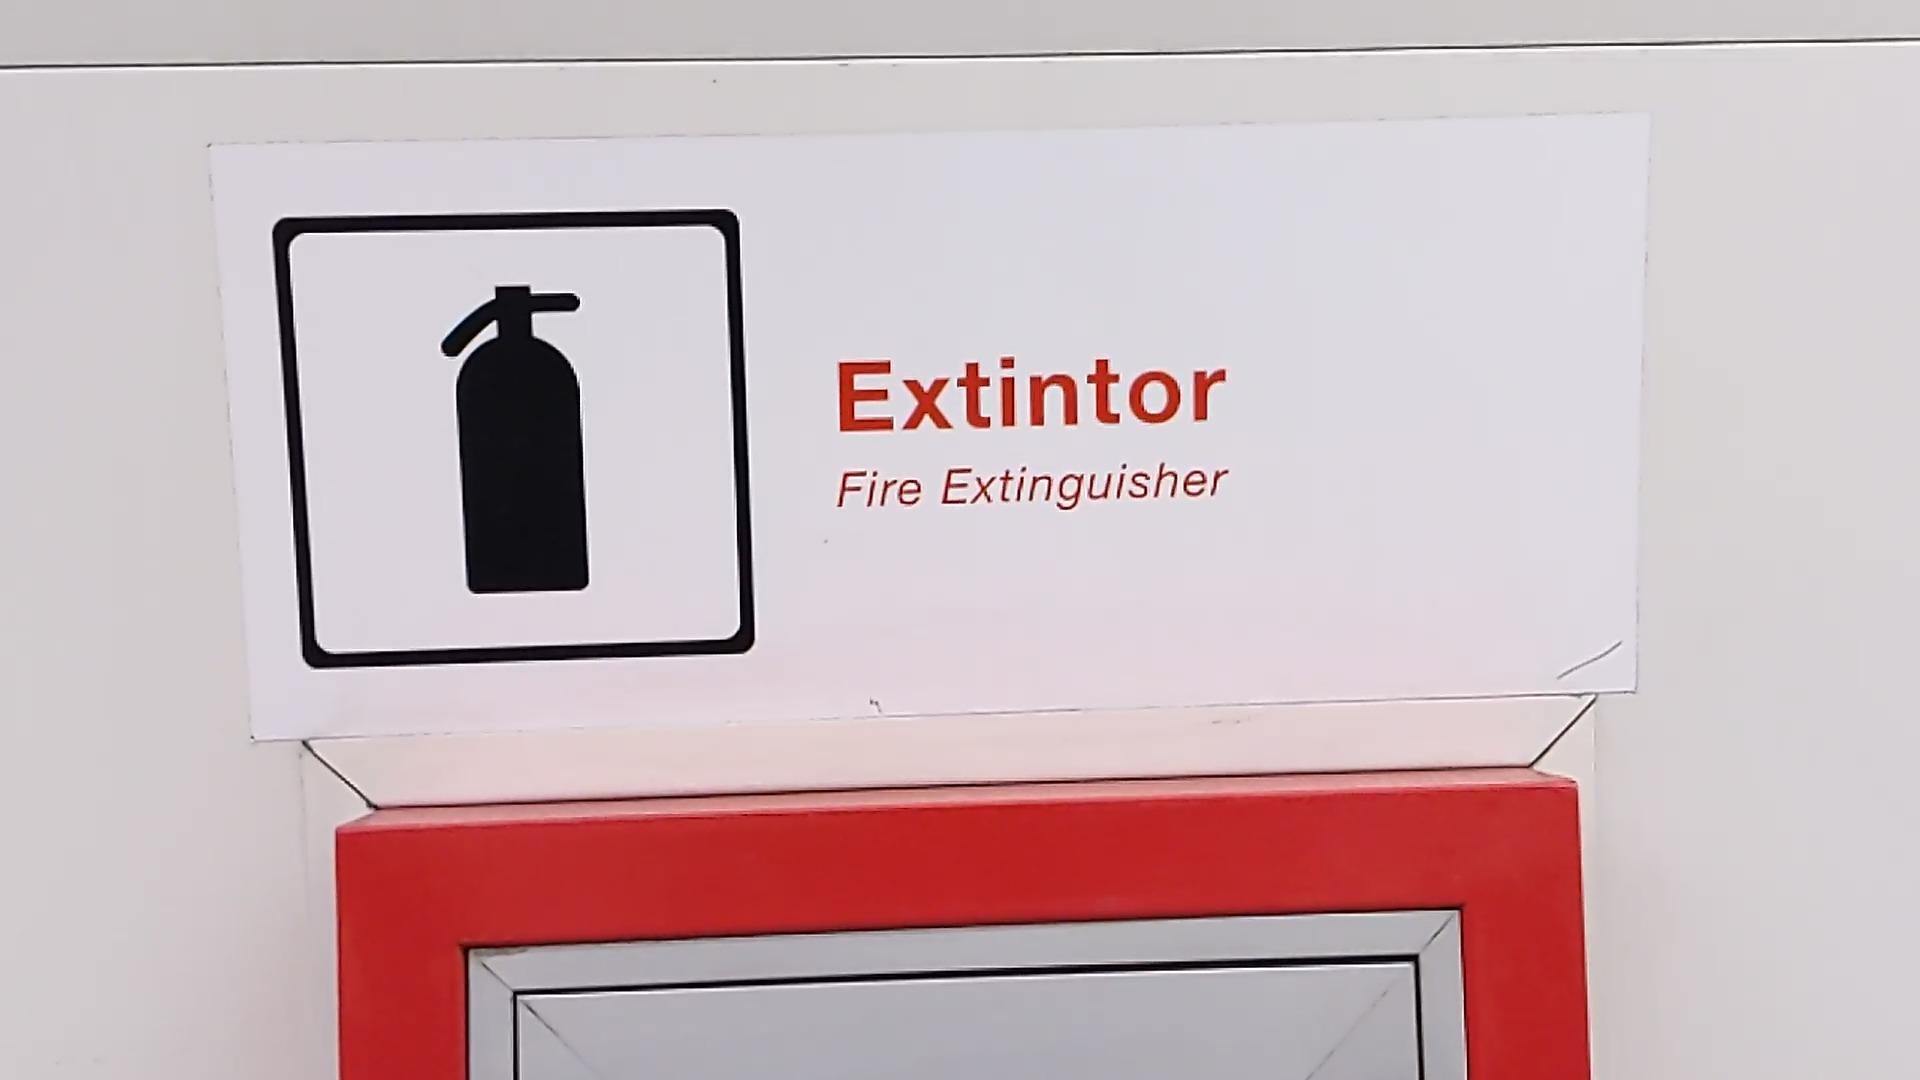extinguisher symbol: (434, 276, 600, 601)
